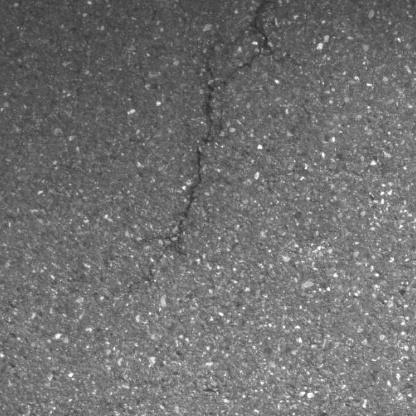Cracks: (172, 0, 276, 258)
